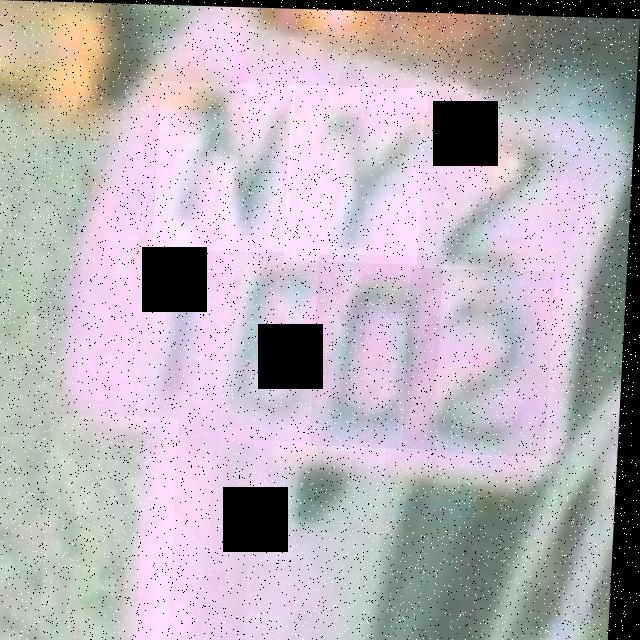0: (314, 252, 446, 447)
2: (406, 265, 558, 453)
6: (46, 414, 183, 640), (227, 242, 341, 432)
7: (250, 439, 391, 640)
N: (155, 80, 297, 251)
Y: (286, 83, 429, 262)
Z: (417, 110, 563, 268)
